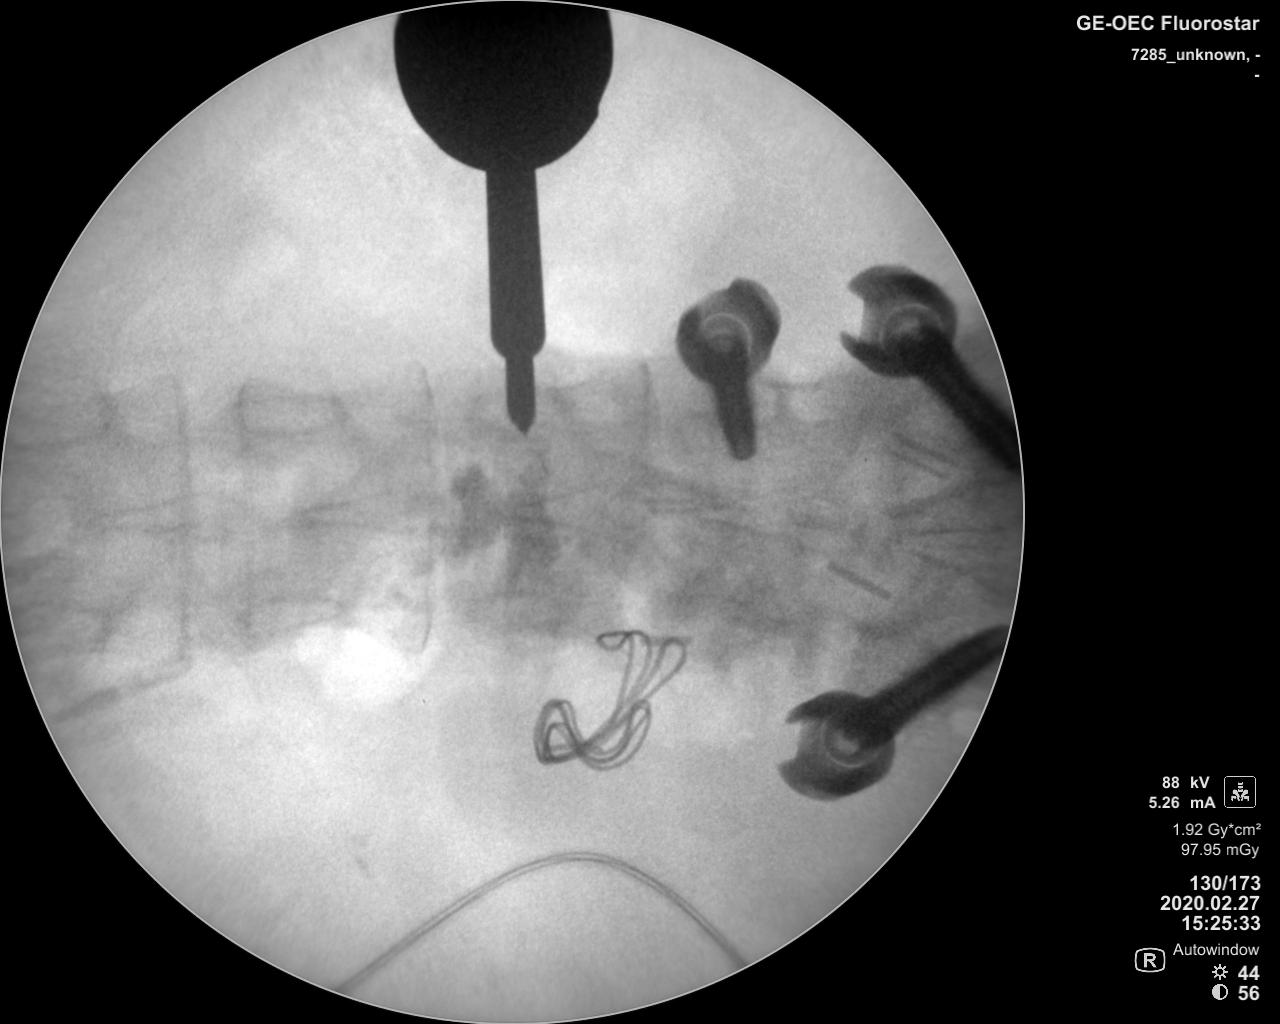eyes: (13, 385, 117, 446), (234, 389, 351, 439), (470, 383, 566, 442), (14, 600, 109, 658), (238, 595, 347, 638), (471, 589, 564, 629)
line: (162, 362, 197, 682), (410, 356, 439, 661), (234, 374, 261, 657)
nose: (508, 478, 662, 545), (288, 484, 448, 538), (95, 490, 239, 545), (696, 495, 806, 538)
